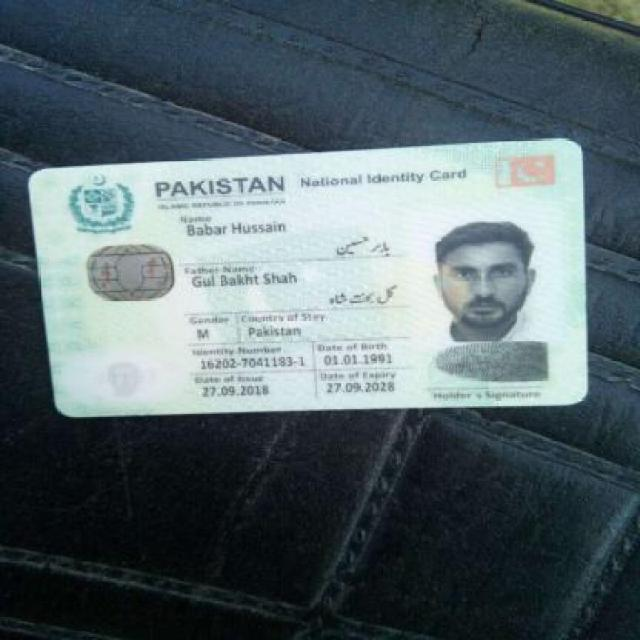Front: (29, 145, 600, 412)
